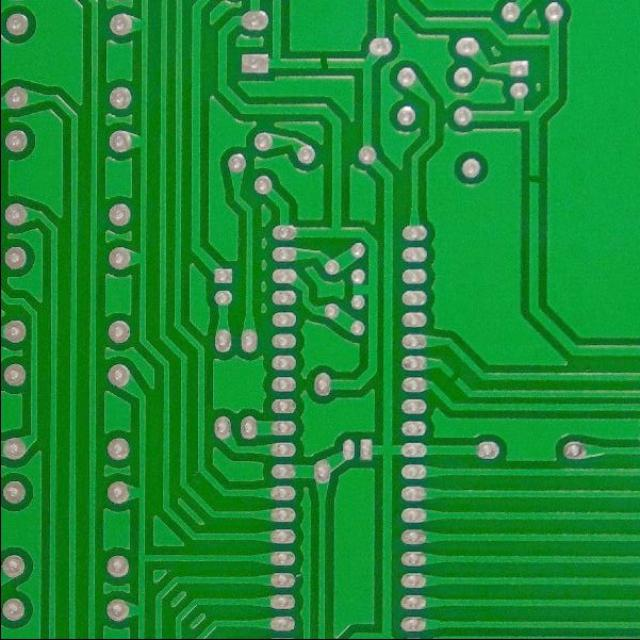open_circuit: (522, 168, 542, 188), (445, 369, 462, 388), (314, 56, 331, 74)
